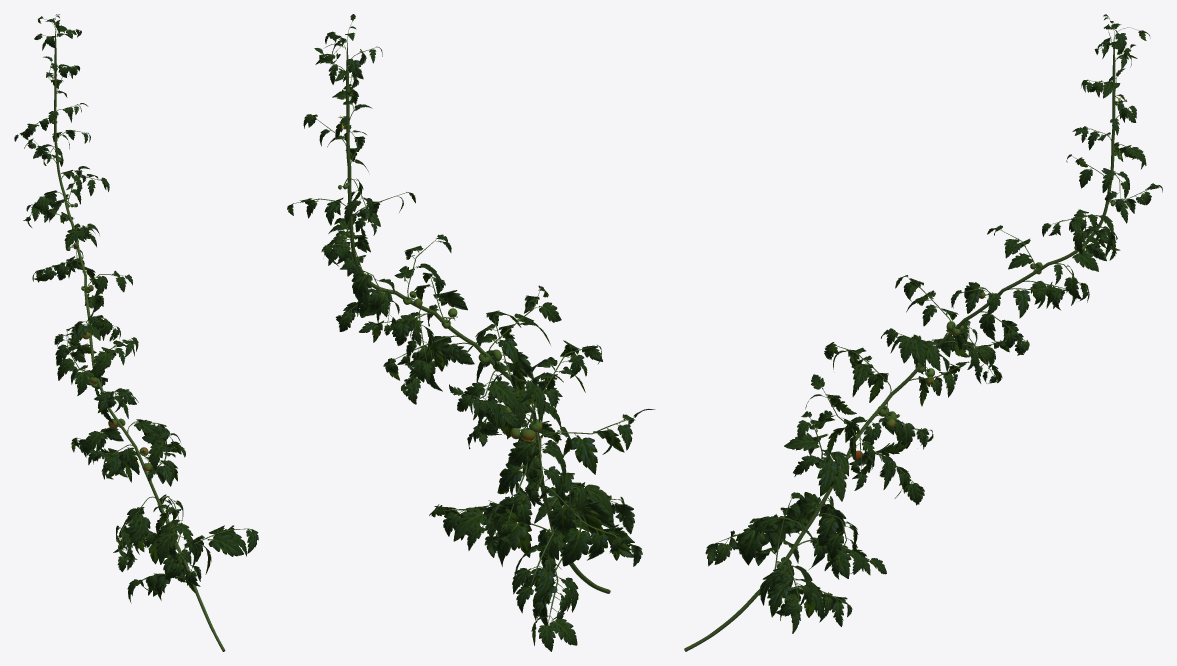
File: tomato_019.glb
3 views of the same model, side by side, from view 1: azimuth 30°, elevation 25°; view 2: azimuth 150°, elevation 25°; view 3: azimuth 270°, elevation 25° (orthographic). The views are drawn at different scales.
Parts seen in each view (by area): view 1: tomato_019; view 2: tomato_019; view 3: tomato_019.
Boxes of the visible parts, x1=… form: tomato_019: x1=14, y1=14, x2=258, y2=651; tomato_019: x1=287, y1=14, x2=655, y2=651; tomato_019: x1=684, y1=14, x2=1162, y2=651.
Size of the model in its own units: 0.9385 by 2.89 by 1.96.
Materials: 18 (17 with a texture image).
